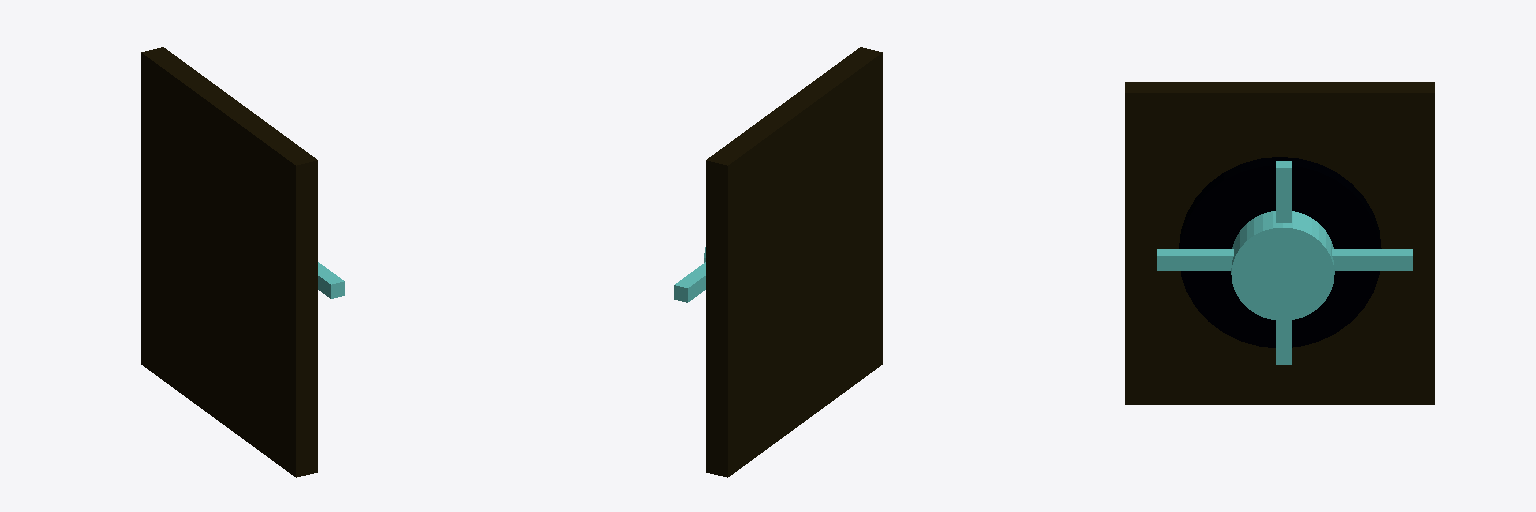
Rendered from usaseif.obj.
3 renders of one model, left to right at view 1: azimuth 30°, elevation 25°; view 2: azimuth 150°, elevation 25°; view 3: azimuth 270°, elevation 25°, orthographic.
Parts seen in each view (by area): view 1: Cube, Cube.002; view 2: Cube, Cube.002; view 3: Cube, Cylinder, Cylinder.001, Cube.002, Cube.001.
Boxes of the visible parts, box(x1,y1,x2,y2) form: Cube: box(141, 47, 317, 477); Cube.002: box(318, 262, 344, 298); Cube: box(706, 47, 882, 477); Cube.002: box(674, 262, 705, 302); Cube: box(1125, 82, 1434, 404); Cylinder: box(1179, 157, 1381, 347); Cylinder.001: box(1231, 211, 1334, 320); Cube.002: box(1157, 249, 1412, 270); Cube.001: box(1276, 161, 1291, 364).
Bounding box in the file's own units: 0.8518 × 3.4 × 3.06.